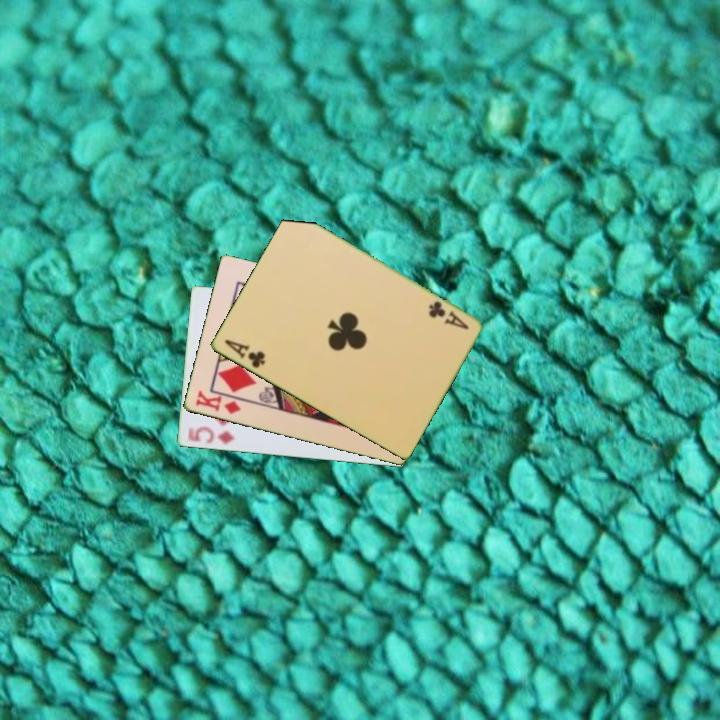5d: (183, 423, 238, 447)
Ac: (424, 297, 471, 333), (220, 336, 268, 371)
Kd: (192, 387, 244, 417)
